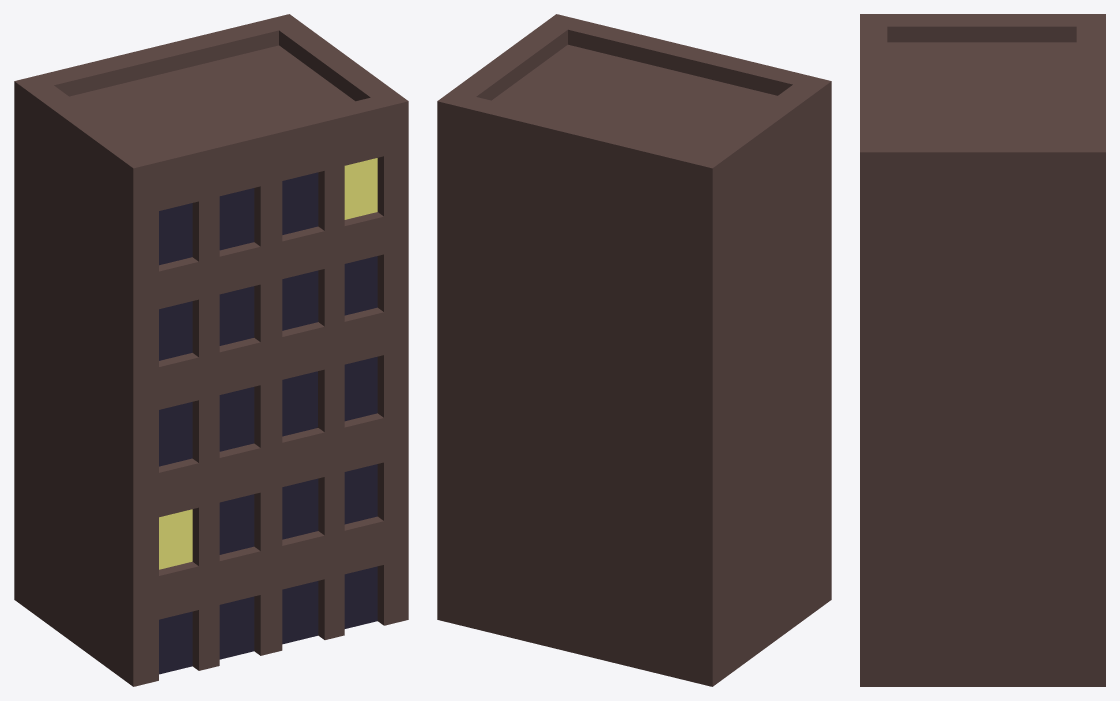
3 renders of one model, left to right at view 1: azimuth 30°, elevation 25°; view 2: azimuth 150°, elevation 25°; view 3: azimuth 270°, elevation 25°, orthographic. The views are drawn at different scales.
Visible parts, largest first — view 1: _b2; view 2: _b2; view 3: _b2.
Part boxes in pixels (<box>): _b2: <box>14,14,408,686</box>; _b2: <box>437,14,831,686</box>; _b2: <box>860,14,1105,686</box>.
Size of the model in its own units: 2 by 3.6 by 1.5.
1 material, 1 textured.
